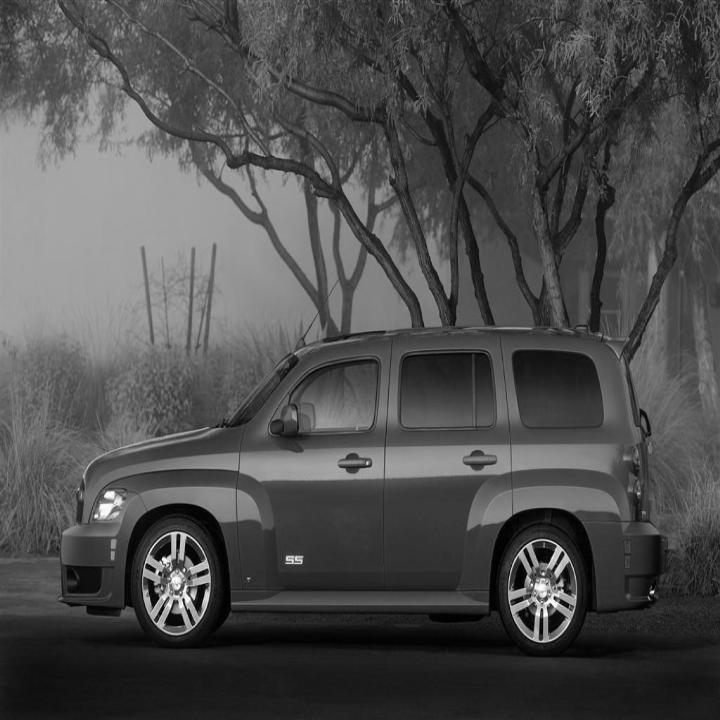car: (57, 322, 668, 656)
